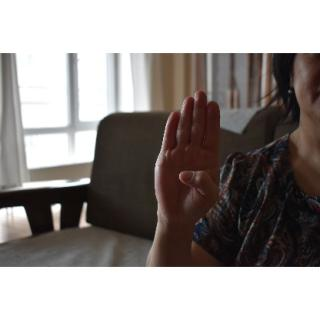KAAF: (150, 85, 230, 228)
